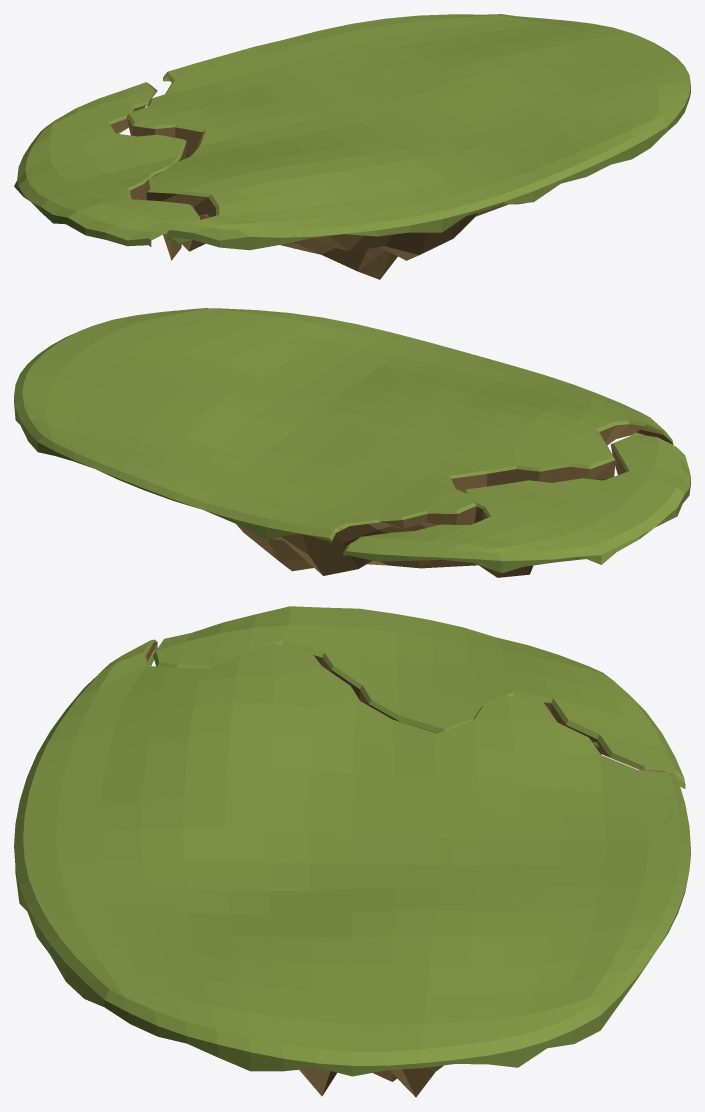
The model's file is plateforme_moyen_1_v3.fbx.
3 renders of one model, top to bottom at view 1: azimuth 30°, elevation 25°; view 2: azimuth 150°, elevation 25°; view 3: azimuth 270°, elevation 25°, orthographic. The views are drawn at different scales.
Visible parts, largest first — view 1: Plane.004; view 2: Plane.004; view 3: Plane.004.
Part boxes in pixels (x1,y1,x2,y2): Plane.004: [14, 14, 690, 279]; Plane.004: [14, 308, 690, 577]; Plane.004: [14, 606, 690, 1097].
Bounding box in the file's own units: 1076 × 270 × 663.
